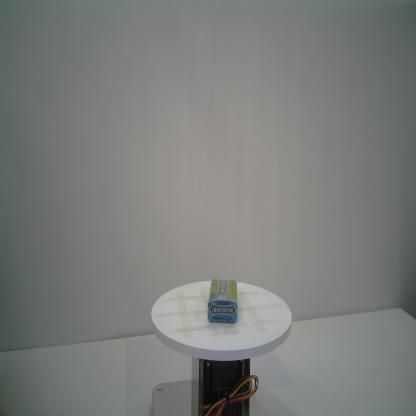Gum: (207, 279, 238, 323)
